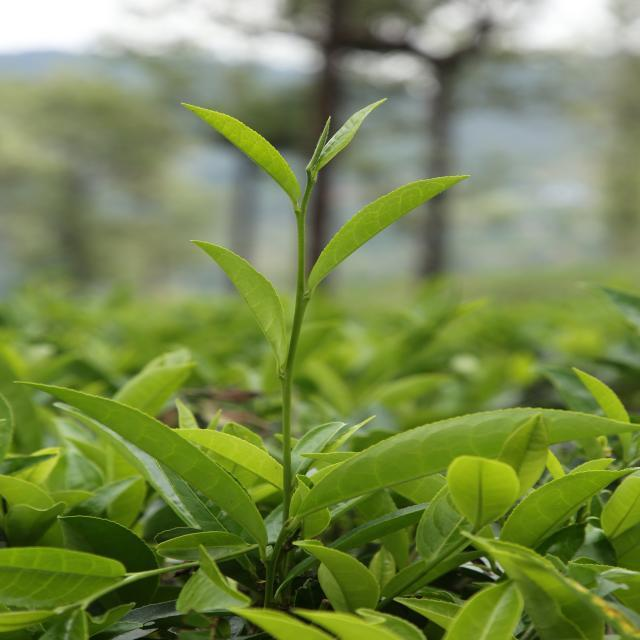Stem: (296, 211, 305, 223)
